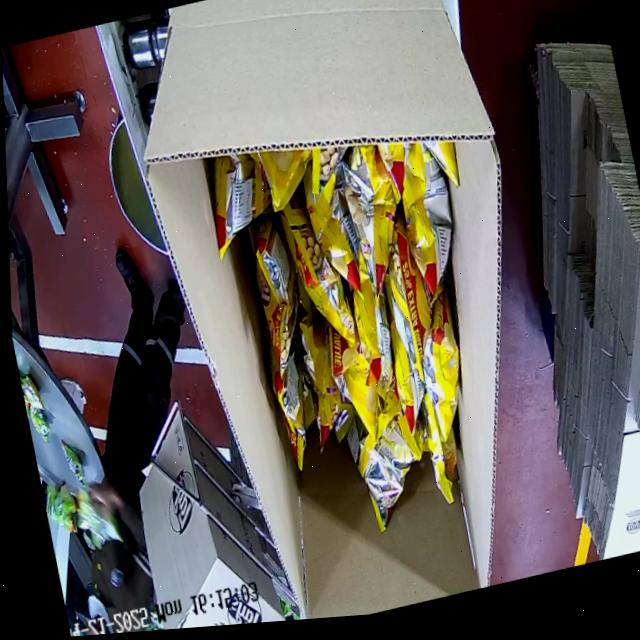SALTED: (209, 128, 521, 552)
